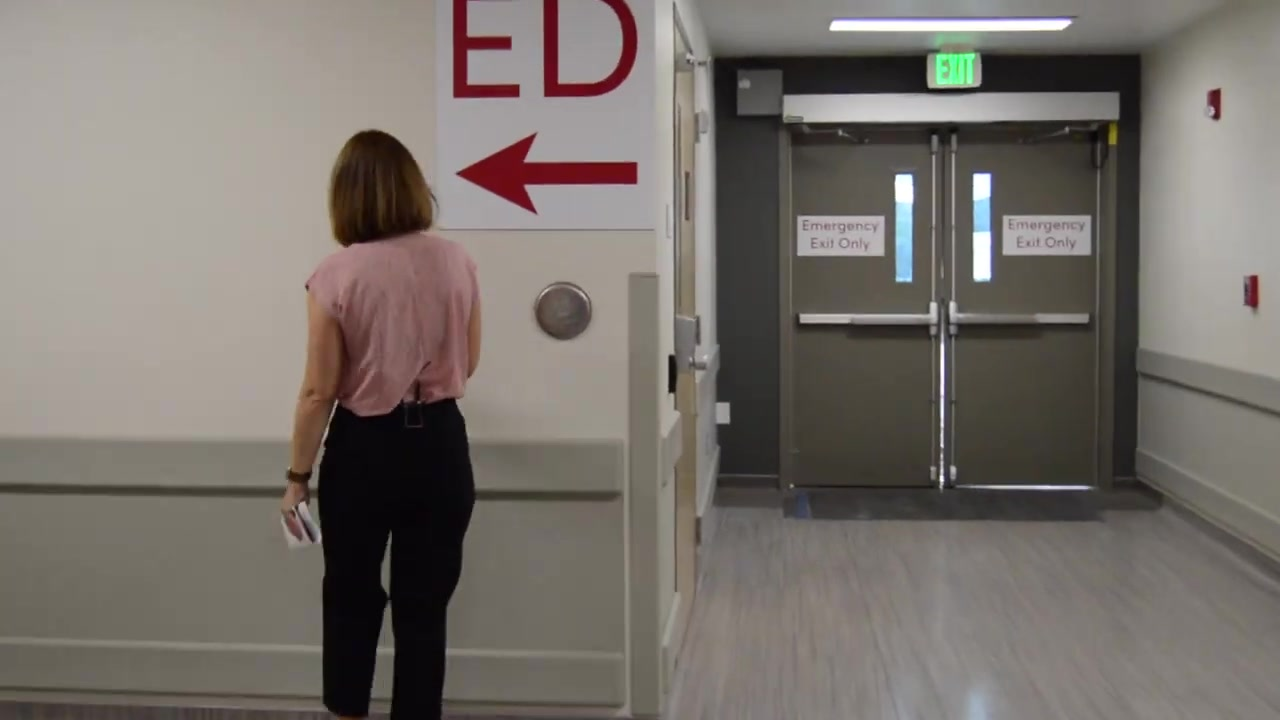door_handle: (692, 361, 708, 372)
person: (280, 127, 482, 720)
press_to_open: (531, 274, 600, 345)
push_latch: (797, 301, 938, 335), (946, 300, 1088, 333)
